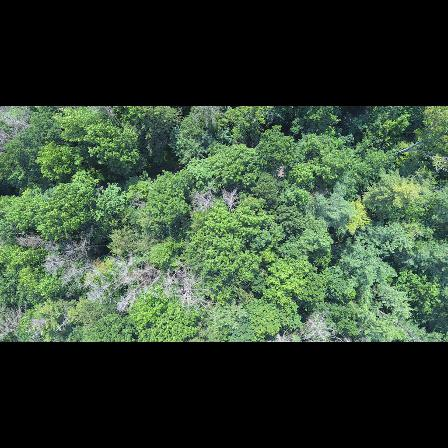Dead: (125, 270, 162, 310), (88, 268, 134, 298), (175, 268, 205, 311), (1, 299, 32, 339), (63, 231, 112, 256), (35, 248, 77, 270), (17, 229, 51, 255), (189, 187, 216, 212), (219, 184, 244, 210)
